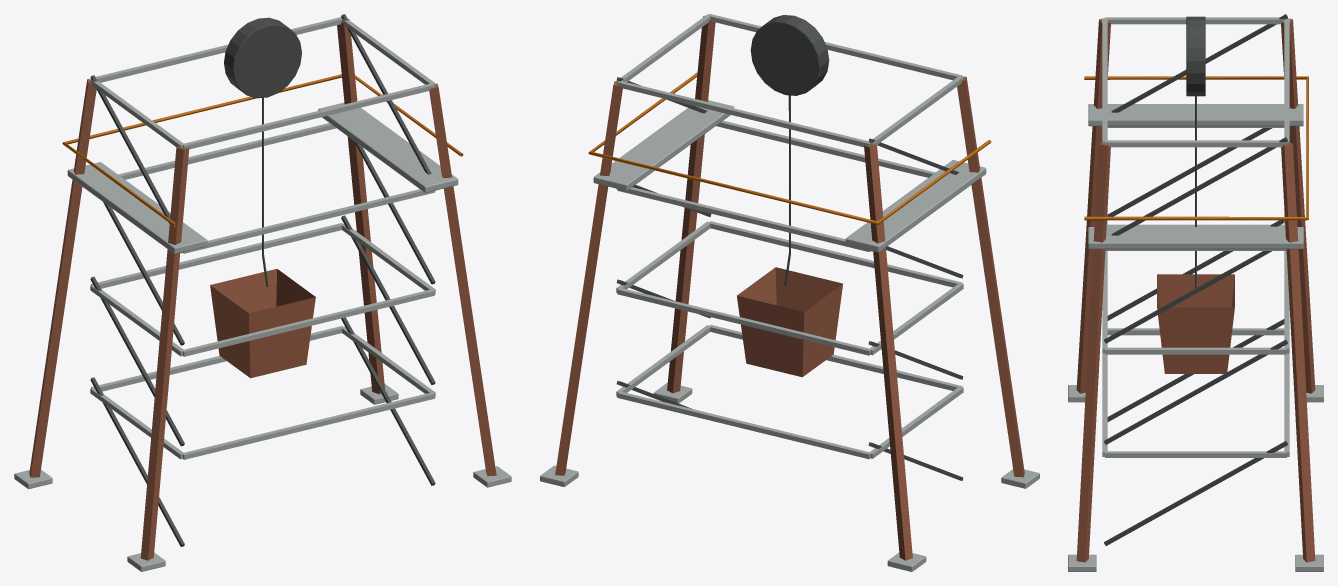
The model's file is quarry-gantry-packed.glb.
3 views of the same model, side by side, from view 1: azimuth 30°, elevation 25°; view 2: azimuth 150°, elevation 25°; view 3: azimuth 270°, elevation 25° (orthographic).
Parts seen in each view (by area): view 1: 03 dusted galvanized steel • merged manufactured assembly, 02 weathered red oxide structural steel • merged manufacture, 04 oiled machinery / shadow steel • merged manufactured asse, 01 quarry safety ochre / chipped enamel • merged manufacture; view 2: 03 dusted galvanized steel • merged manufactured assembly, 02 weathered red oxide structural steel • merged manufacture, 04 oiled machinery / shadow steel • merged manufactured asse, 01 quarry safety ochre / chipped enamel • merged manufacture; view 3: 02 weathered red oxide structural steel • merged manufacture, 03 dusted galvanized steel • merged manufactured assembly, 04 oiled machinery / shadow steel • merged manufactured asse, 01 quarry safety ochre / chipped enamel • merged manufacture.
Boxes of the visible parts, box(x1,y1,x2,y2) form: 03 dusted galvanized steel • merged manufactured assembly: box(14, 17, 511, 571); 02 weathered red oxide structural steel • merged manufacture: box(29, 19, 496, 560); 04 oiled machinery / shadow steel • merged manufactured asse: box(90, 14, 435, 546); 01 quarry safety ochre / chipped enamel • merged manufacture: box(62, 74, 463, 226); 03 dusted galvanized steel • merged manufactured assembly: box(540, 14, 1039, 571); 02 weathered red oxide structural steel • merged manufacture: box(555, 14, 1024, 560); 04 oiled machinery / shadow steel • merged manufactured asse: box(616, 15, 963, 480); 01 quarry safety ochre / chipped enamel • merged manufacture: box(588, 72, 991, 224); 02 weathered red oxide structural steel • merged manufacture: box(1076, 18, 1315, 562); 03 dusted galvanized steel • merged manufactured assembly: box(1068, 17, 1323, 571); 04 oiled machinery / shadow steel • merged manufactured asse: box(1104, 14, 1287, 545); 01 quarry safety ochre / chipped enamel • merged manufacture: box(1084, 76, 1308, 220).
Size of the model in its own units: 16.56 by 19.71 by 9.85.
Materials: 4 (1 with a texture image).
